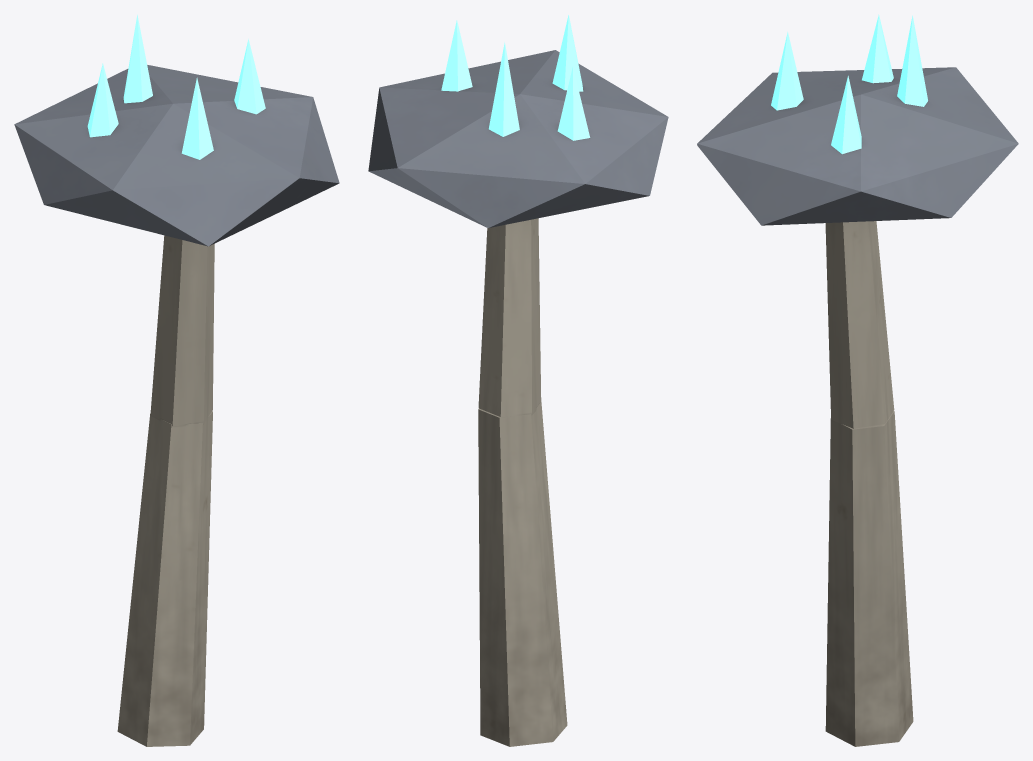
Rendered from arv_fungo_cristal_3.glb.
The picture shows the model from 3 angles, left to right: view 1: azimuth 30°, elevation 25°; view 2: azimuth 150°, elevation 25°; view 3: azimuth 270°, elevation 25°; orthographic projection.
Visible parts, largest first — view 1: arv_fungo_cristal_3; view 2: arv_fungo_cristal_3; view 3: arv_fungo_cristal_3.
Boxes of the visible parts, x1=… form: arv_fungo_cristal_3: x1=14, y1=14, x2=339, y2=746; arv_fungo_cristal_3: x1=368, y1=15, x2=668, y2=746; arv_fungo_cristal_3: x1=697, y1=14, x2=1018, y2=746.
Bounding box in the file's own units: 0.7744 × 1.93 × 0.7911.
Materials: 2 (1 with a texture image).
